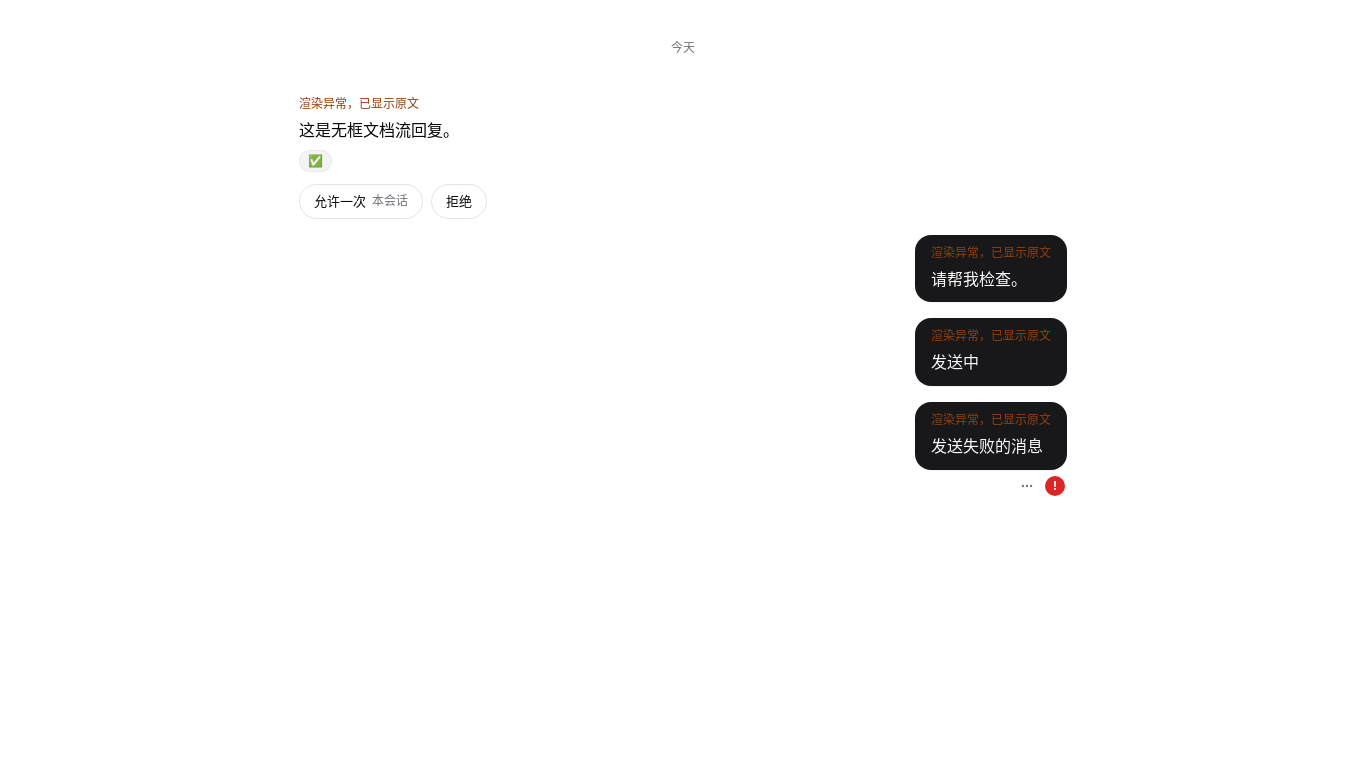
it: TimelineView (#89) › narrow TimelineView opens long-press message context menu with copy actions (ADR-0028)
Press the mouse on the text "这是无框文档流回复。": x=379, y=130 [299, 119, 459, 141]
Wait 550 ms
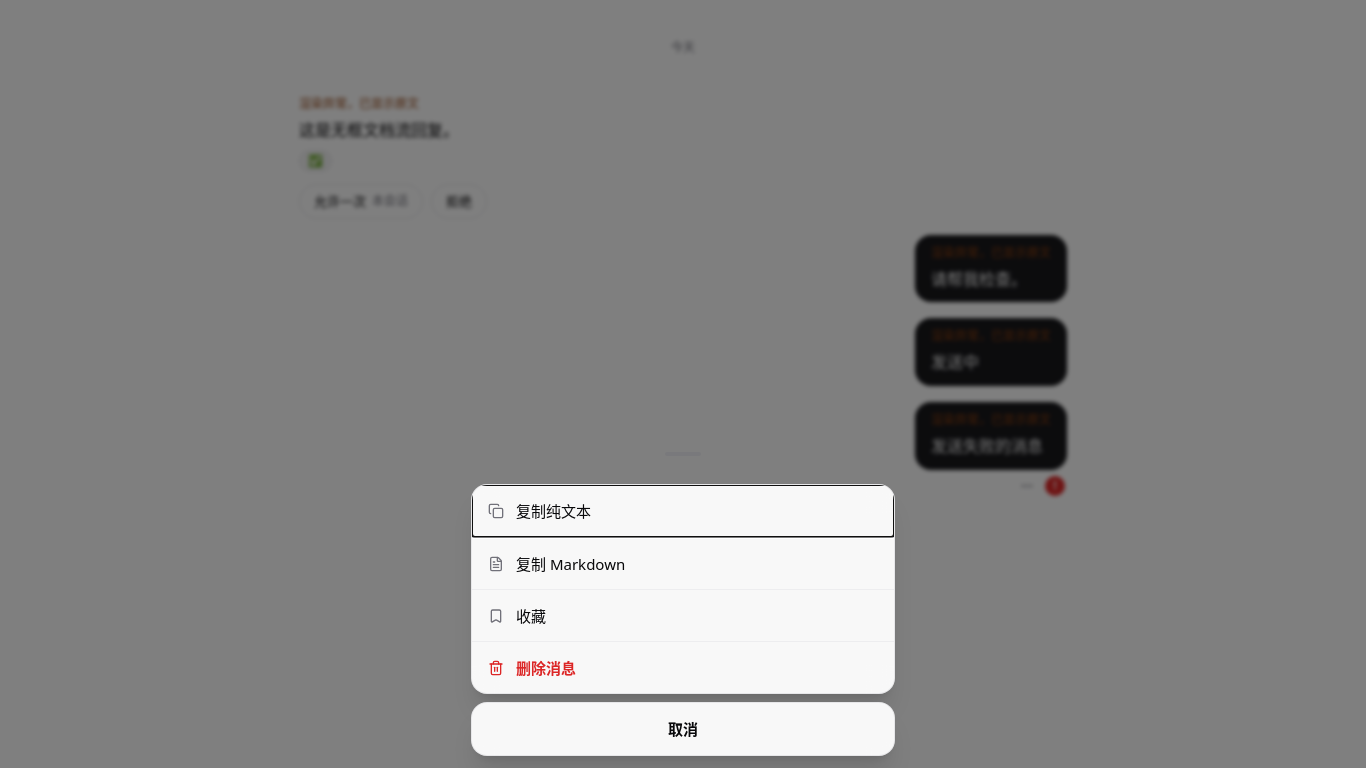
Expected: the dialog named "消息操作" is shown, [459, 432, 907, 767]
Expected: the menu item "复制纯文本" is shown
Expected: the menu item "复制 Markdown" is shown, [472, 537, 894, 589]
Click the menu item "复制纯文本": x=554, y=511 [472, 485, 894, 537]
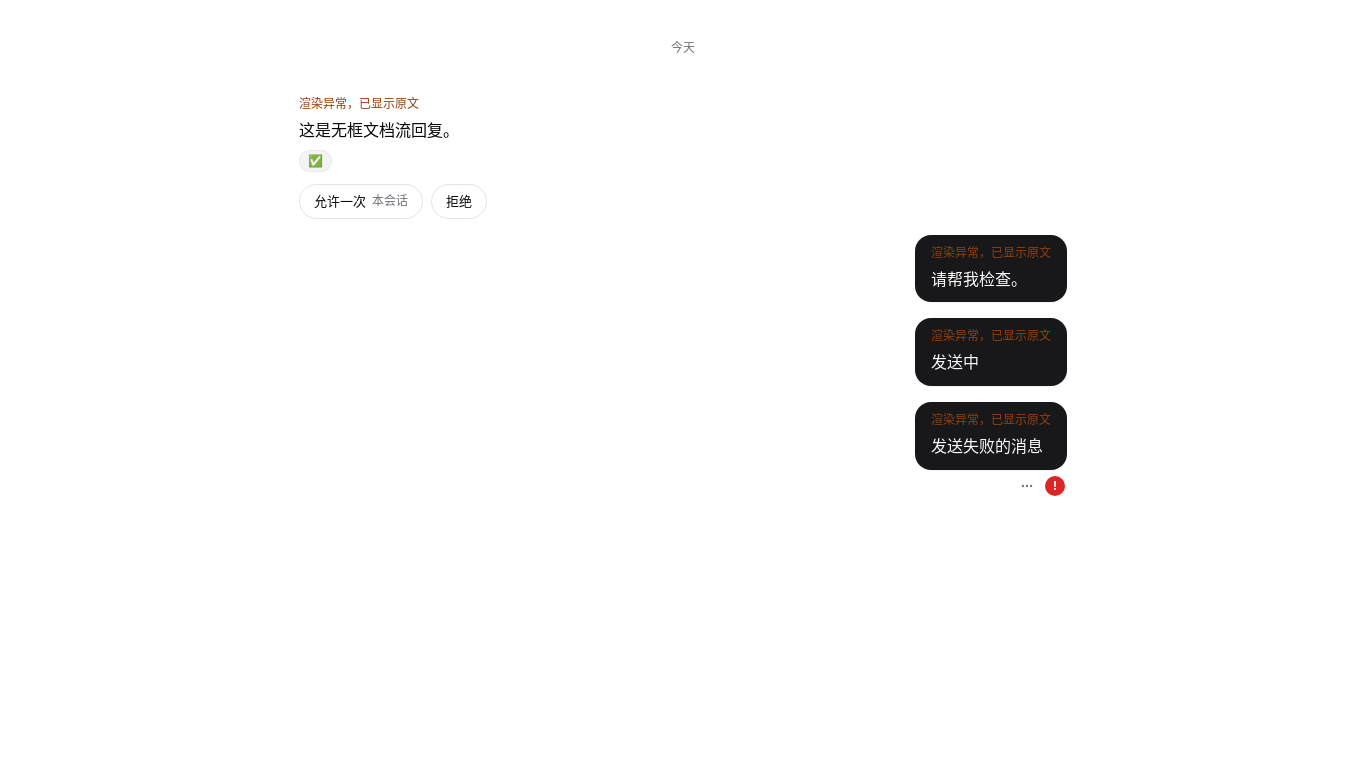
Expected: the menu "消息操作" is gone
